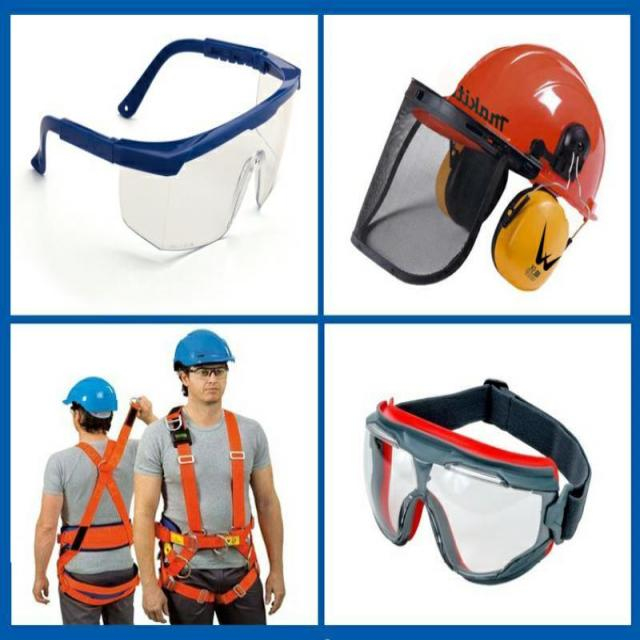Reflective-Jacket: (154, 408, 266, 598), (57, 442, 138, 600)
Safety-Helmet: (169, 324, 238, 374), (62, 372, 119, 420)
